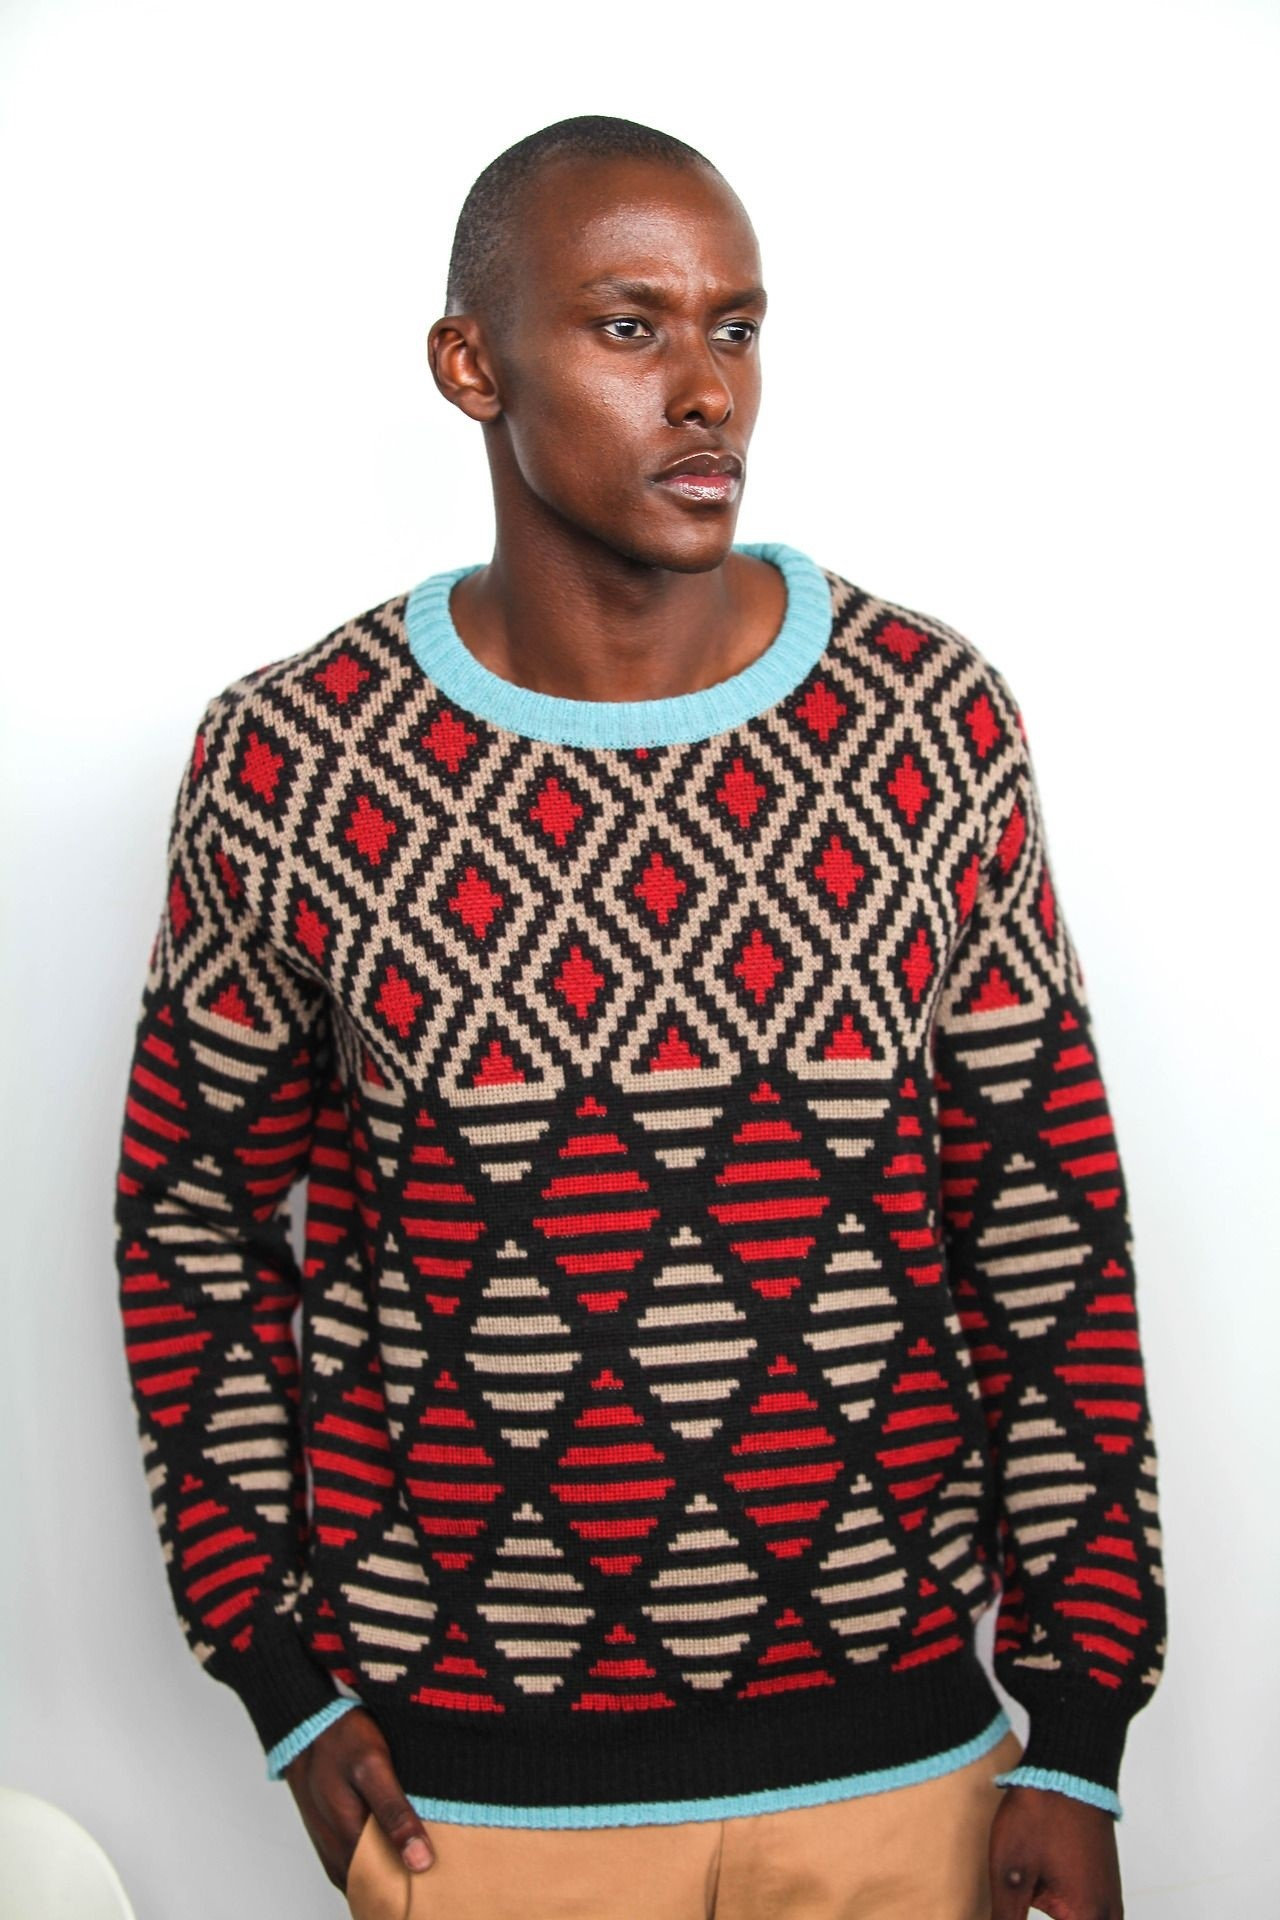face_no_mask: (423, 116, 768, 566)
